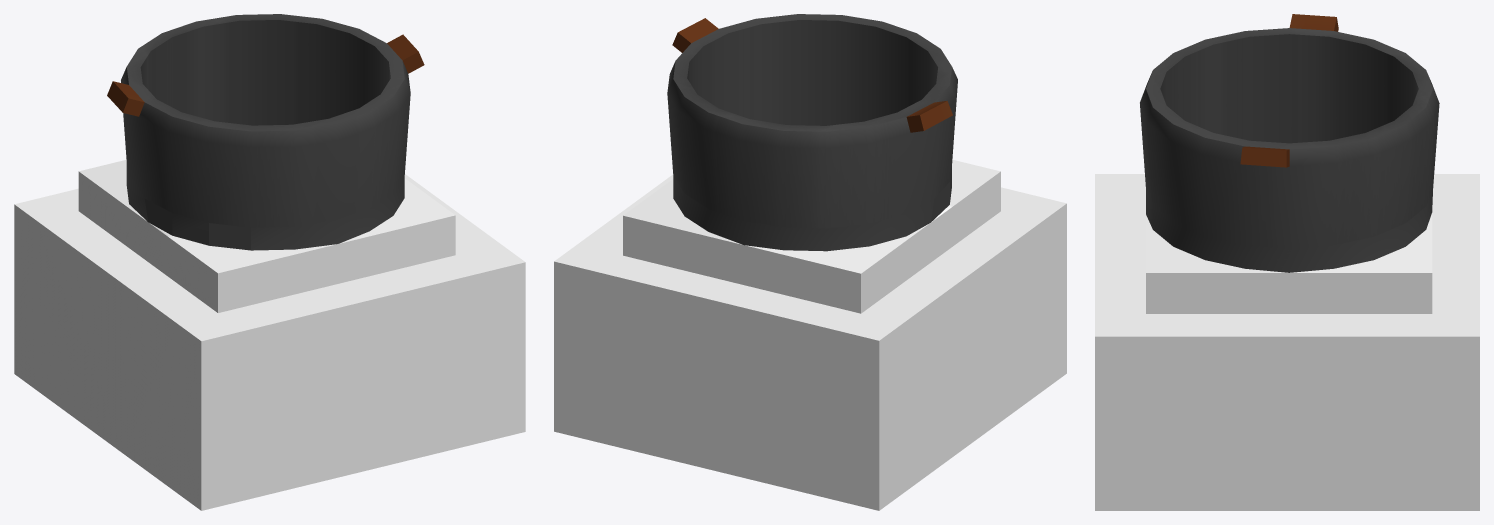
Rendered from Pot.obj.
3 renders of one model, left to right at view 1: azimuth 30°, elevation 25°; view 2: azimuth 150°, elevation 25°; view 3: azimuth 270°, elevation 25°, orthographic. The views are drawn at different scales.
Visible parts, largest first — view 1: pasted__pCylinder2 group5; view 2: pasted__pCylinder2 group5; view 3: pasted__pCylinder2 group5.
Boxes of the visible parts, box(x1,y1,x2,y2) form: pasted__pCylinder2 group5: box(14, 14, 525, 510); pasted__pCylinder2 group5: box(554, 14, 1066, 510); pasted__pCylinder2 group5: box(1095, 14, 1479, 510).
Bounding box in the file's own units: 1 × 0.9923 × 1.
2 materials, 2 textured.
